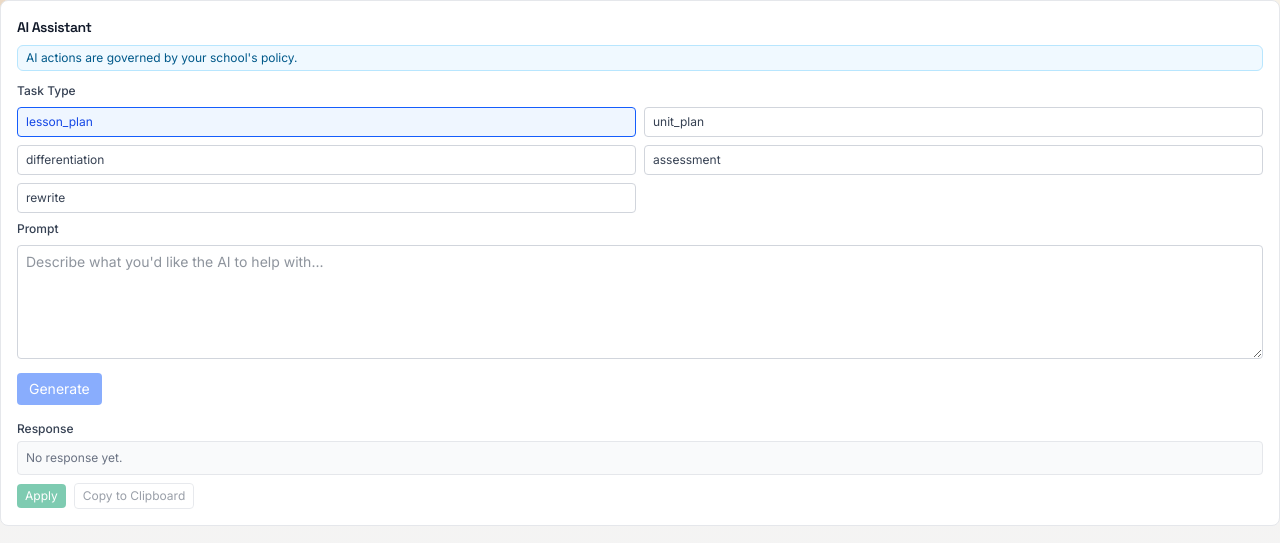
it: AiAssistantPanel › falls back to non-streaming API on stream failure
This screenshot has width=1280, height=543.
Check: the button "lesson_plan" is enabled, box [17,107,636,137]
In the text box with placeholder "Describe what you'd like the AI to help with...": x=640, y=302 [17,245,1263,359], type "Generate"
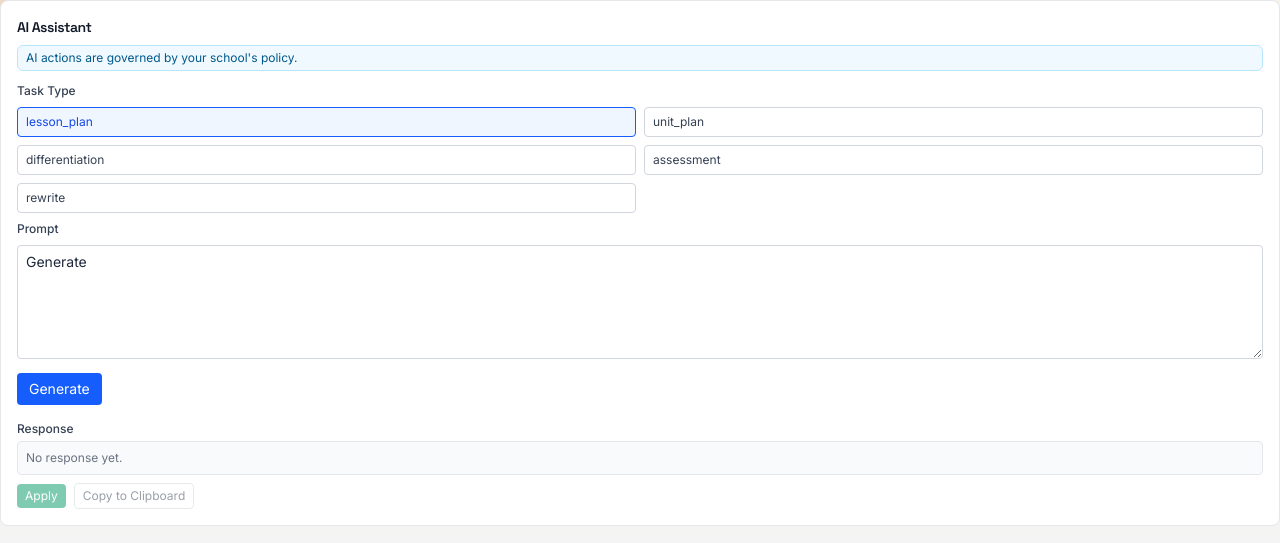
Click the button "Generate": x=59, y=389 [17,373,102,405]
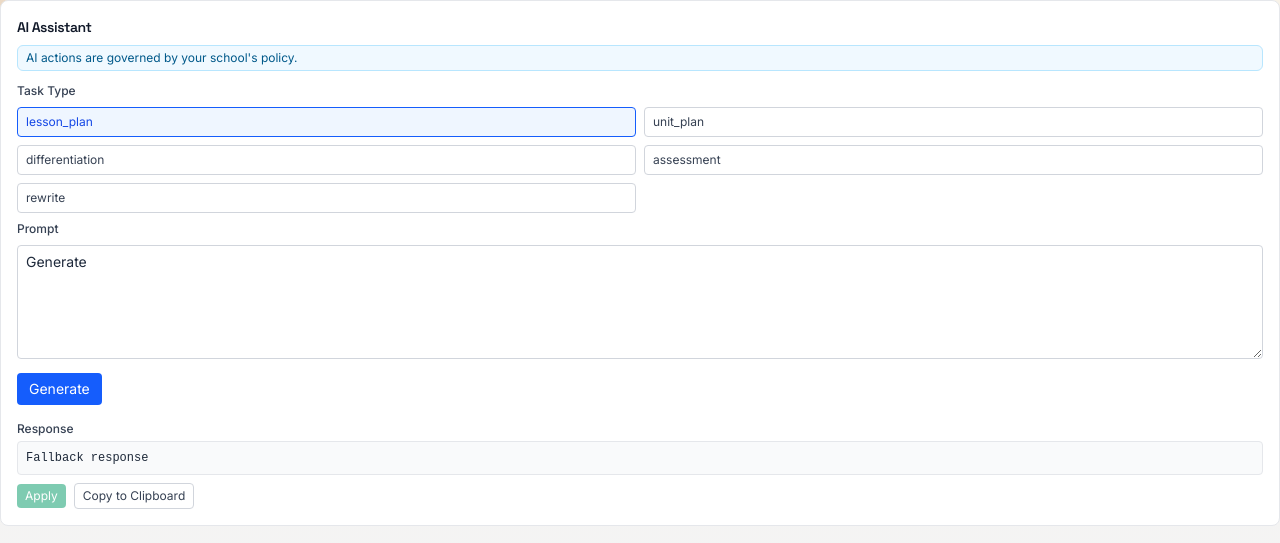
Check: the text "Fallback response" is shown, box [26,451,148,465]
